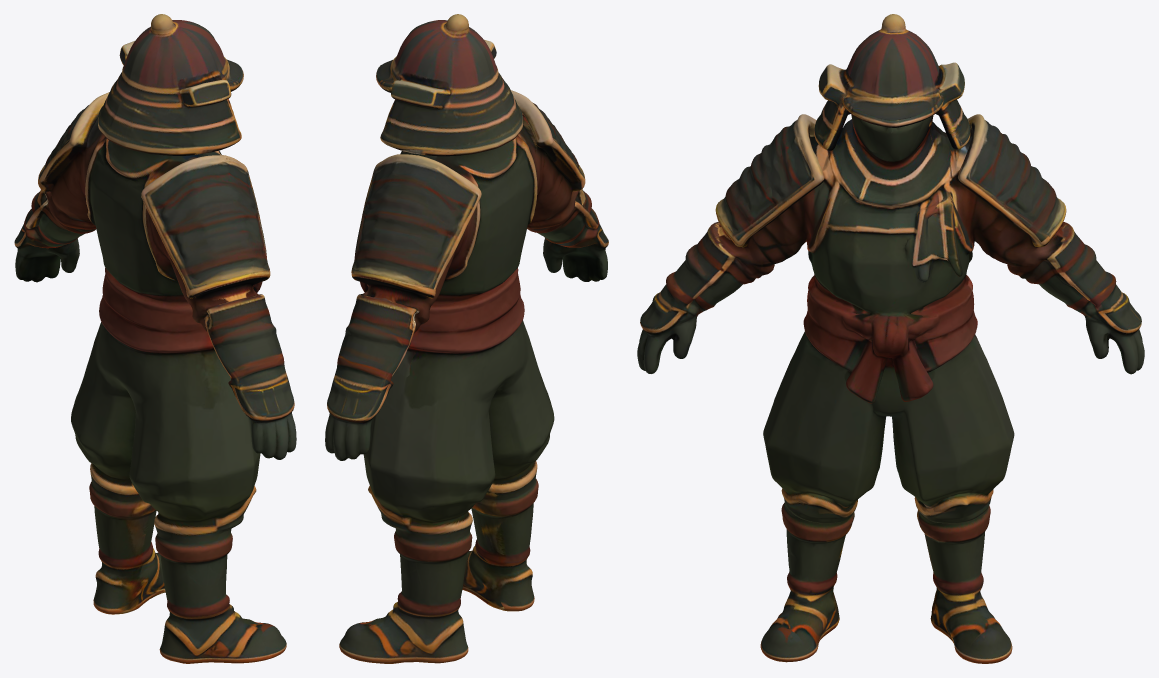
3 renders of one model, left to right at view 1: azimuth 30°, elevation 25°; view 2: azimuth 150°, elevation 25°; view 3: azimuth 270°, elevation 25°, orthographic.
Visible parts, largest first — view 1: node_48af8a3e_9a1b_4408_be87_0ba98acb4597_mesh0; view 2: node_48af8a3e_9a1b_4408_be87_0ba98acb4597_mesh0; view 3: node_48af8a3e_9a1b_4408_be87_0ba98acb4597_mesh0.
Boxes of the visible parts, box(x1,y1,x2,y2) form: node_48af8a3e_9a1b_4408_be87_0ba98acb4597_mesh0: box(14, 14, 296, 663); node_48af8a3e_9a1b_4408_be87_0ba98acb4597_mesh0: box(325, 14, 608, 663); node_48af8a3e_9a1b_4408_be87_0ba98acb4597_mesh0: box(637, 14, 1144, 663).
Size of the model in its own units: 25 by 94.81 by 70.67.
1 material, 1 textured.
